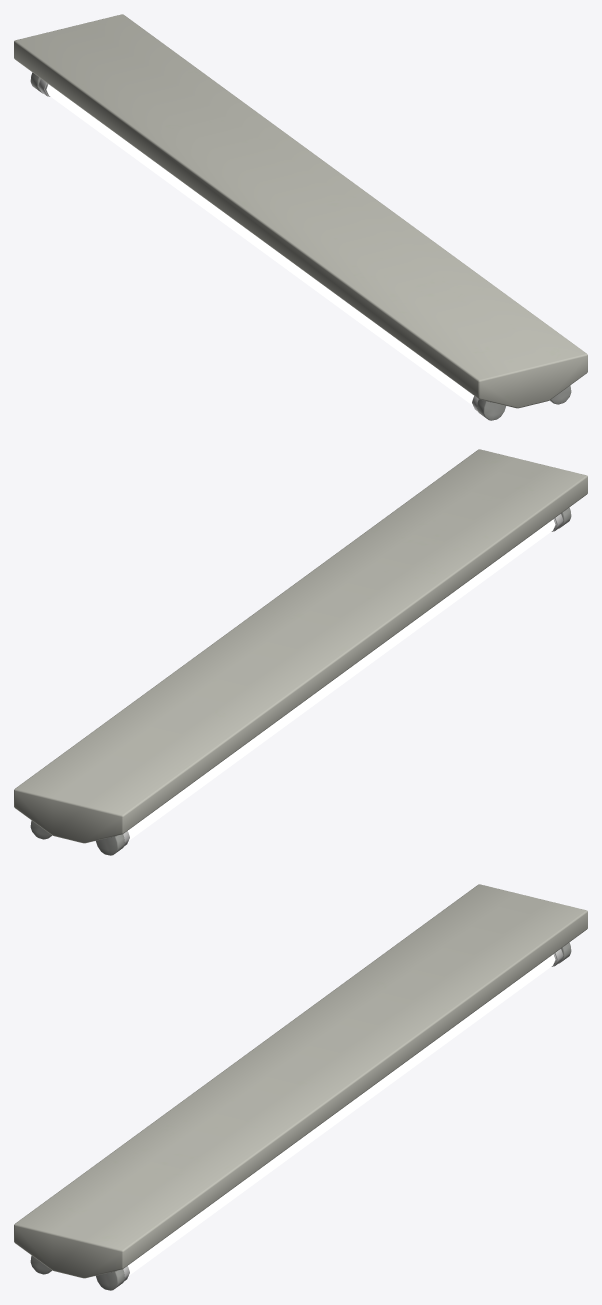
Rendered from CeilingLight.fbx.
3 views of the same model, one above another, from view 1: azimuth 30°, elevation 25°; view 2: azimuth 150°, elevation 25°; view 3: azimuth 330°, elevation 25° (orthographic).
Visible parts, largest first — view 1: CeilingLight; view 2: CeilingLight; view 3: CeilingLight.
Boxes of the visible parts, x1,y1,x2,y2 form: CeilingLight: (14, 14, 587, 420); CeilingLight: (14, 449, 587, 855); CeilingLight: (14, 884, 587, 1290).
Size of the model in its own units: 0.5042 by 0.2164 by 3.7.
